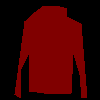abbigliamento_uomo: (14, 5, 87, 98)
